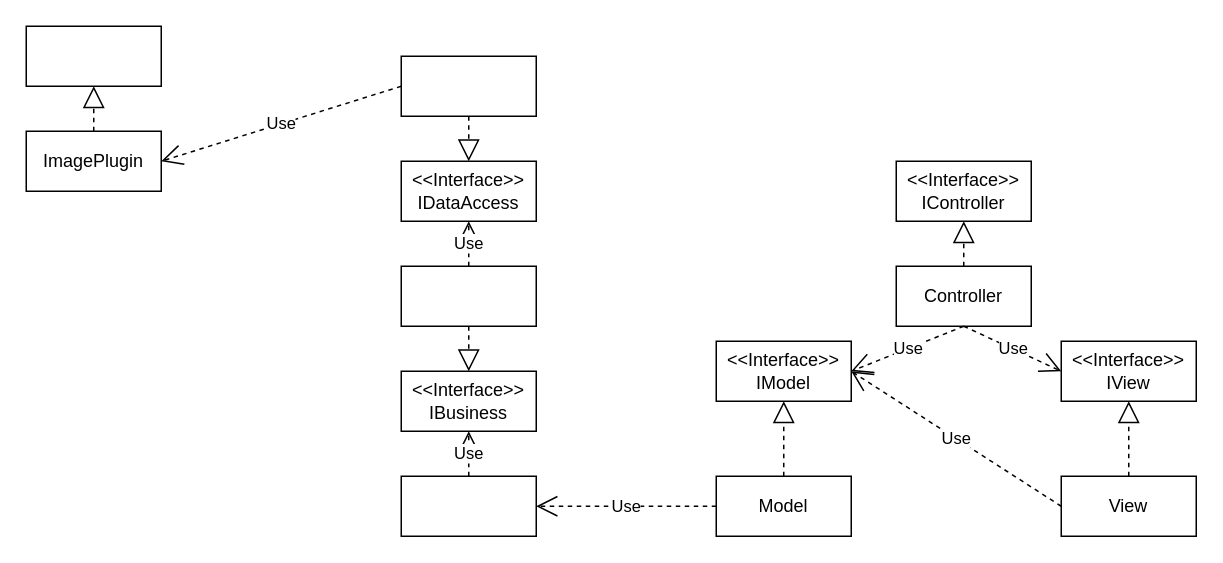
Some shapes in this 1223 by 563 pixel diagram are drawn without their labels. Here are the shapes that lost their labels. From the top down, the centre of each, then its label:
(x=93, y=55): <<Interface>> Plugin
(x=468, y=85): DataAccess
(x=468, y=295): Business
(x=468, y=505): Application
